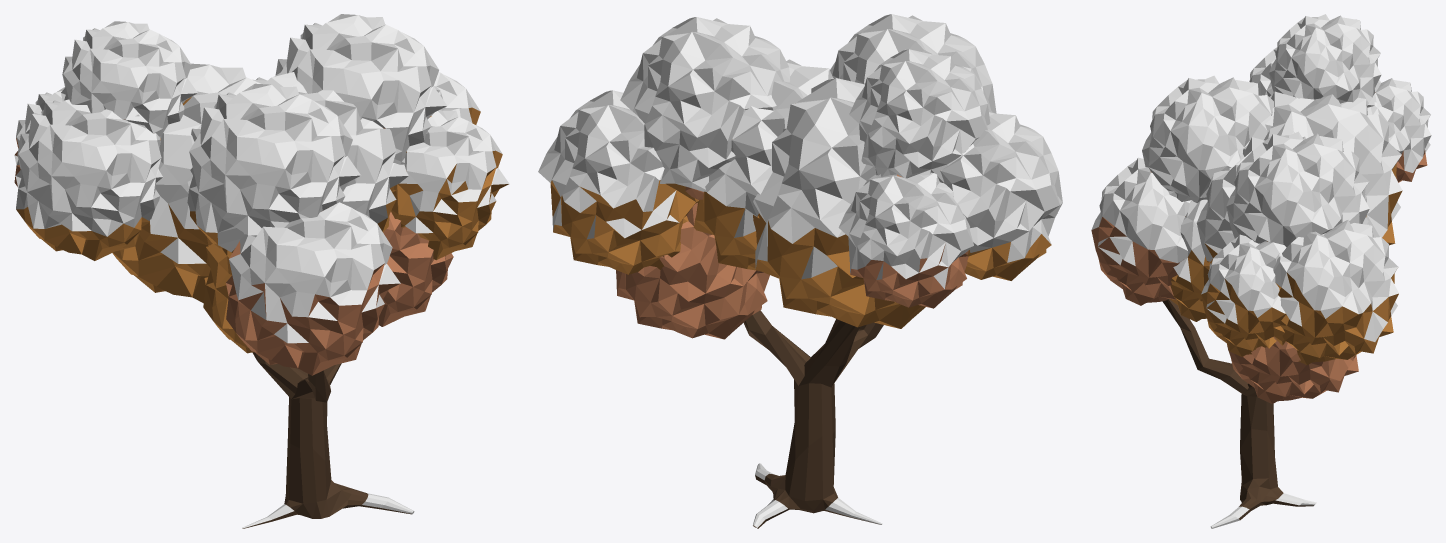
The model's file is winter tree 1.fbx.
3 renders of one model, left to right at view 1: azimuth 30°, elevation 25°; view 2: azimuth 150°, elevation 25°; view 3: azimuth 270°, elevation 25°, orthographic. The views are drawn at different scales.
Parts seen in each view (by area): view 1: LowPoly Tree .042; view 2: LowPoly Tree .042; view 3: LowPoly Tree .042.
Part boxes in pixels (left/top/right/bottom): LowPoly Tree .042: left=14, top=14, right=509, bottom=528; LowPoly Tree .042: left=538, top=14, right=1062, bottom=528; LowPoly Tree .042: left=1091, top=14, right=1431, bottom=528.
Bounding box in the file's own units: 237 × 240 × 177.
